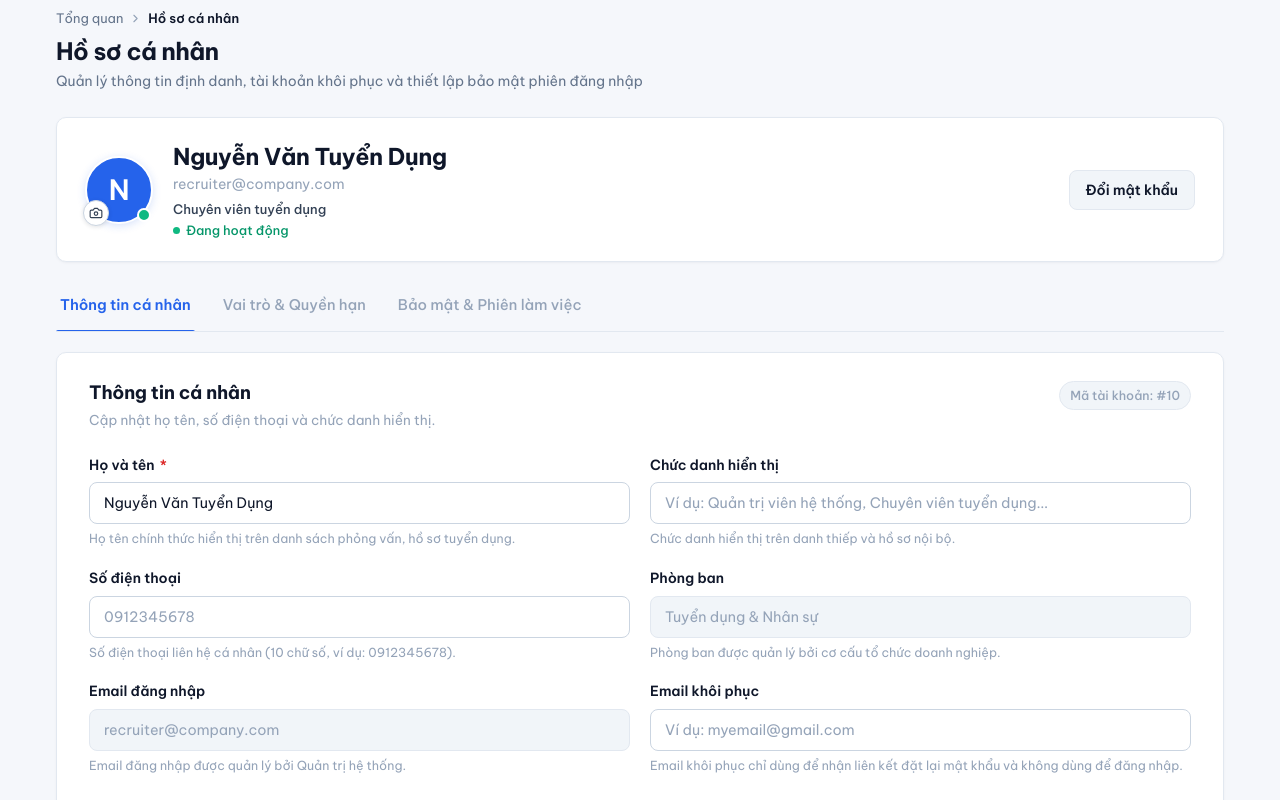
Scenario: ProfilePage Component (Personal User Profile) › rejects invalid Vietnamese phone before sending the profile update
Type "098234092839" into the field labelled "Số điện thoại" at (360,617), box [89,596,630,638]
(page scrolled)
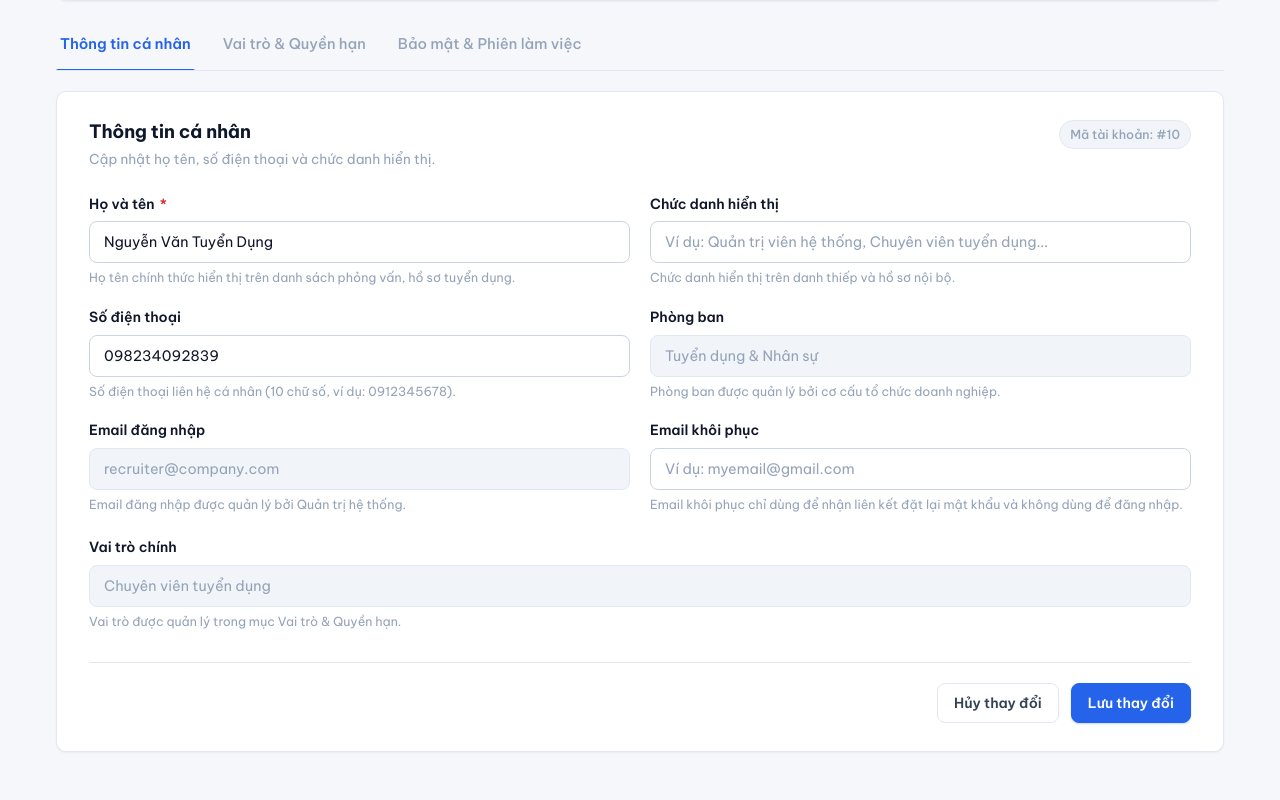
Click the button "Lưu thay đổi" at (1131,703), box [1071,683,1191,723]
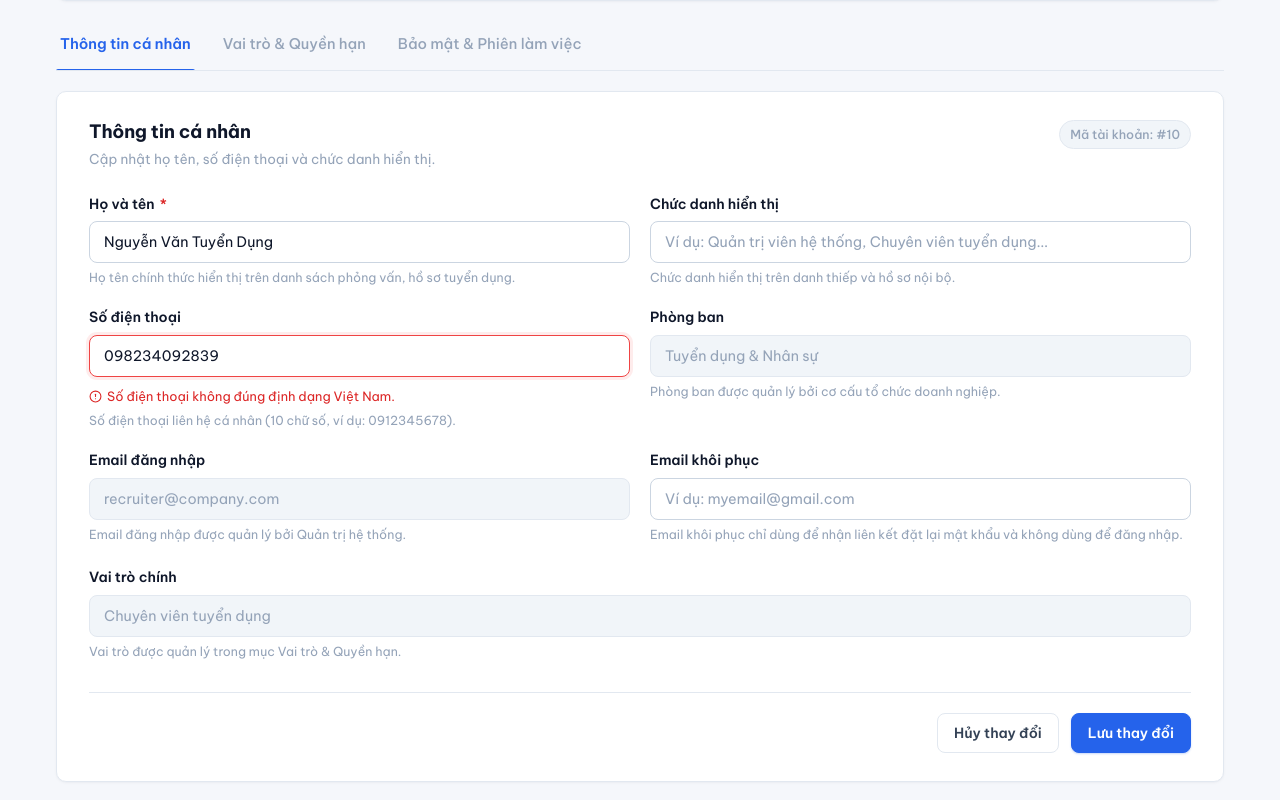
Expected: the text "Số điện thoại không đúng định dạng Việt Nam." is shown, [107,387,395,406]
